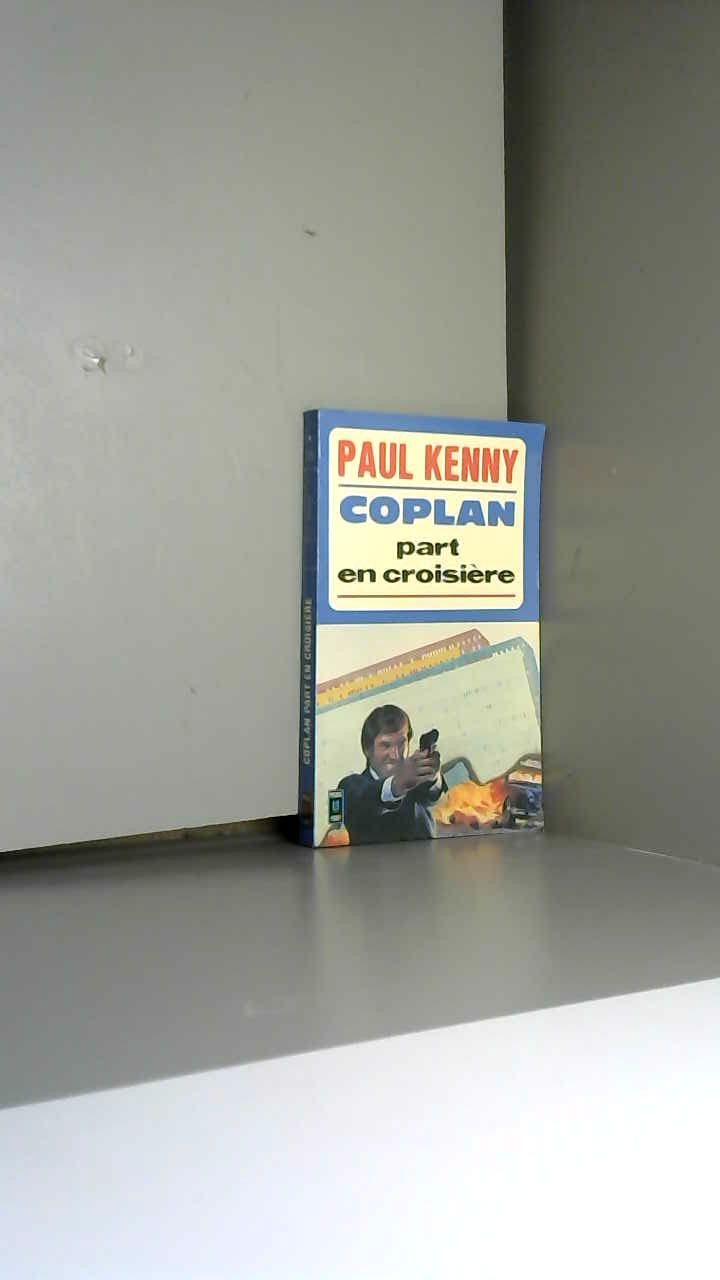book: (273, 367, 583, 885)
